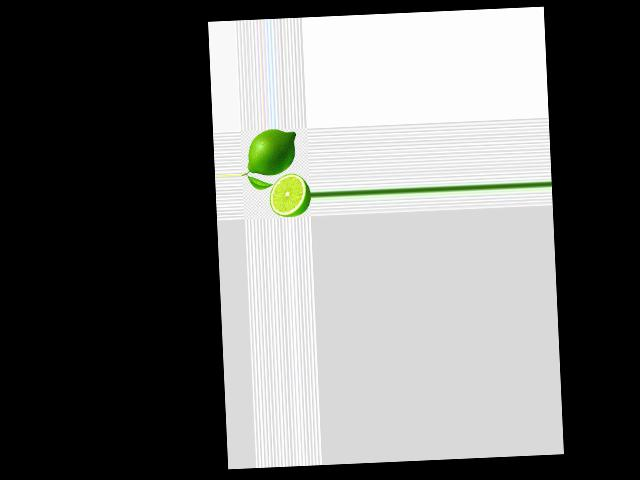lemon: (245, 128, 299, 183)
